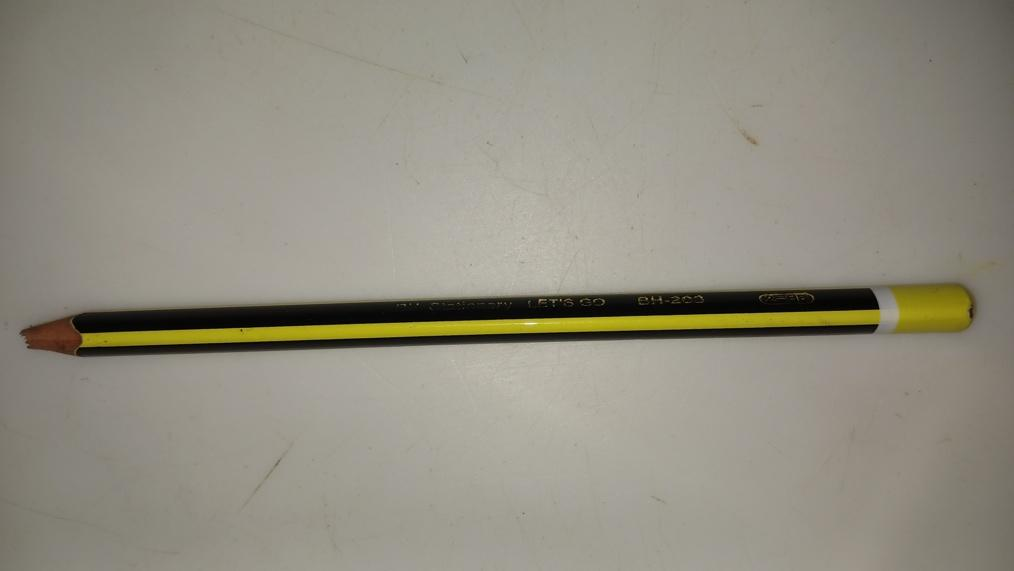Pencil: (16, 283, 988, 356)
